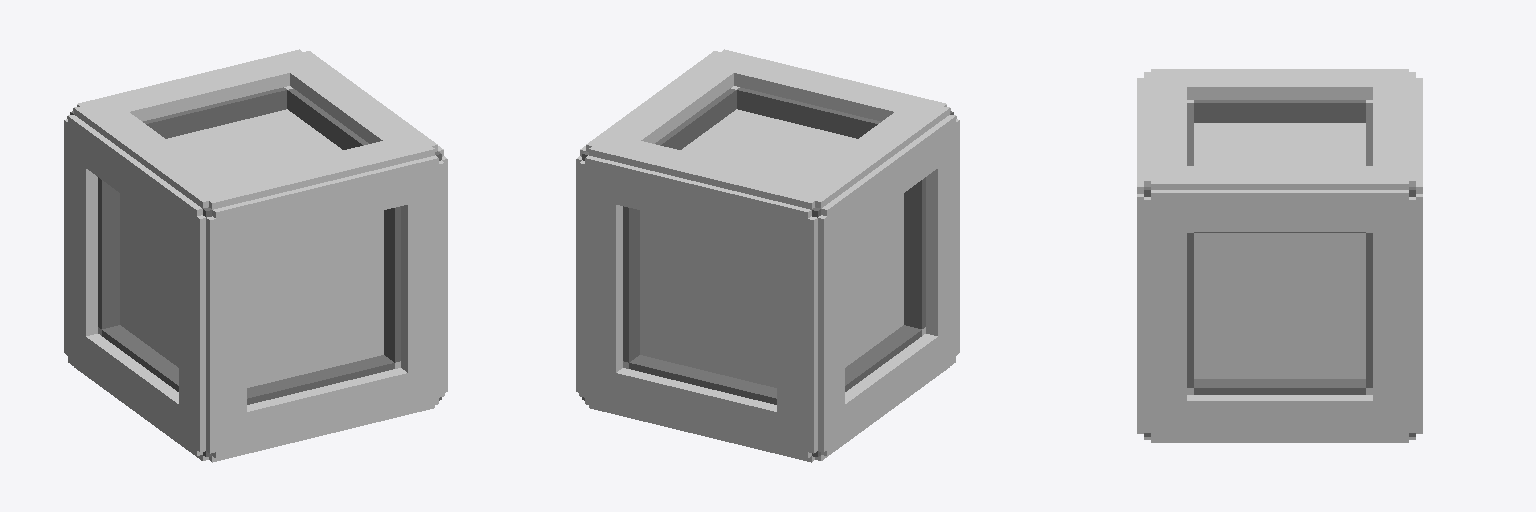
The picture shows the model from 3 angles: view 1: azimuth 30°, elevation 25°; view 2: azimuth 150°, elevation 25°; view 3: azimuth 270°, elevation 25°; orthographic projection.
Visible parts, largest first — view 1: box_small; view 2: box_small; view 3: box_small.
Boxes of the visible parts, box(x1,y1,x2,y2) form: box_small: box(64, 49, 447, 462); box_small: box(576, 49, 959, 462); box_small: box(1137, 69, 1422, 442).
Bounding box in the file's own units: 4 × 4 × 4.
Materials: 1 (1 with a texture image).